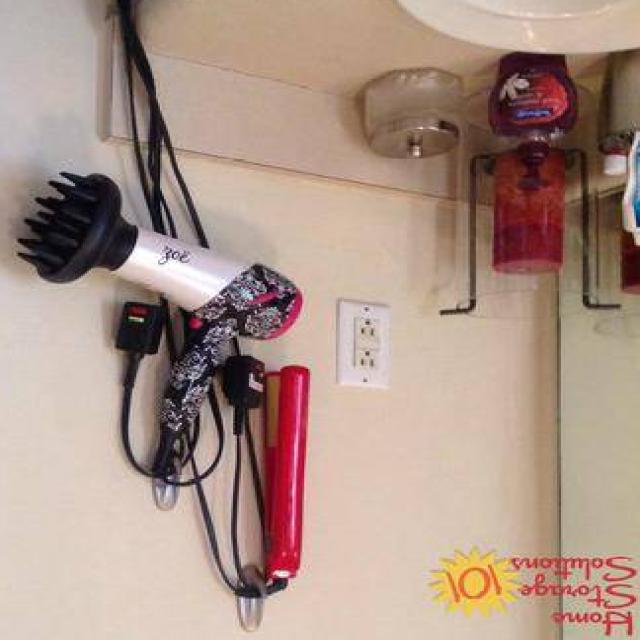dryer: (1, 163, 322, 511)
